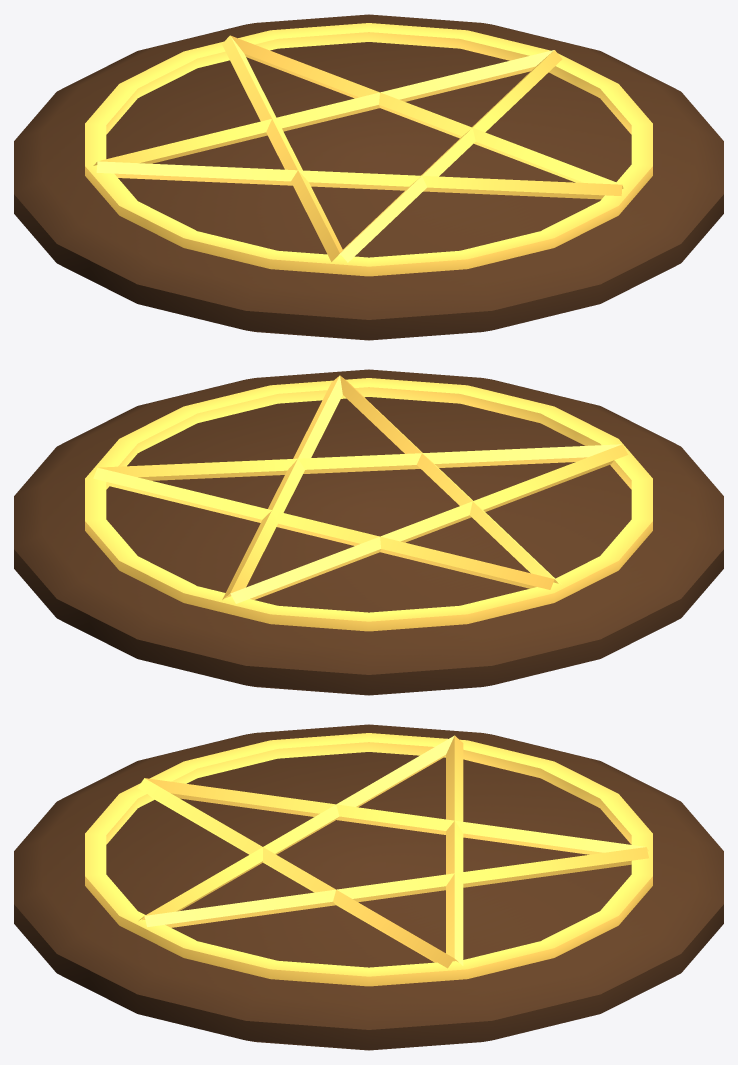
Rendered from pentacle_plaque.glb.
3 views of the same model, one above another, from view 1: azimuth 30°, elevation 25°; view 2: azimuth 150°, elevation 25°; view 3: azimuth 270°, elevation 25° (orthographic).
Visible parts, largest first — view 1: pentacle_plaque, pentacle_plaque_glow; view 2: pentacle_plaque, pentacle_plaque_glow; view 3: pentacle_plaque, pentacle_plaque_glow.
Boxes of the visible parts, x1=… form: pentacle_plaque: x1=14, y1=14, x2=723, y2=340; pentacle_plaque_glow: x1=85, y1=23, x2=652, y2=276; pentacle_plaque: x1=14, y1=369, x2=723, y2=695; pentacle_plaque_glow: x1=85, y1=375, x2=652, y2=631; pentacle_plaque: x1=14, y1=724, x2=723, y2=1050; pentacle_plaque_glow: x1=85, y1=733, x2=652, y2=986.
Size of the model in its own units: 1 by 0.097 by 0.9848.
